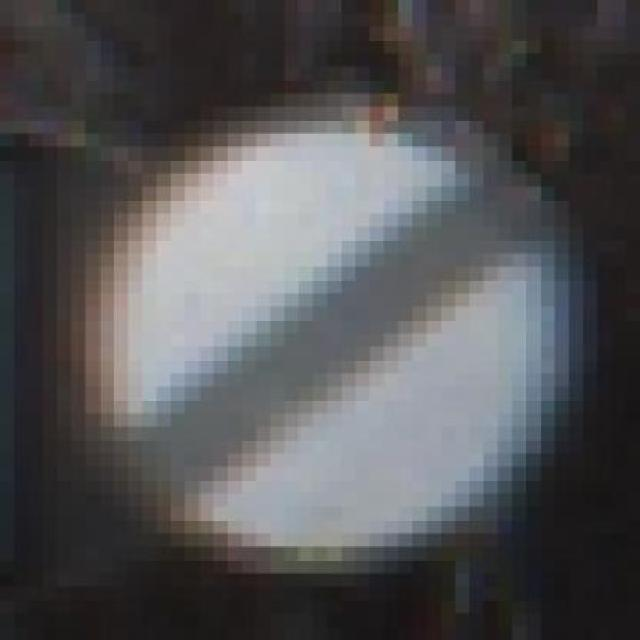End of all speed and passing limits: (50, 107, 592, 561)
